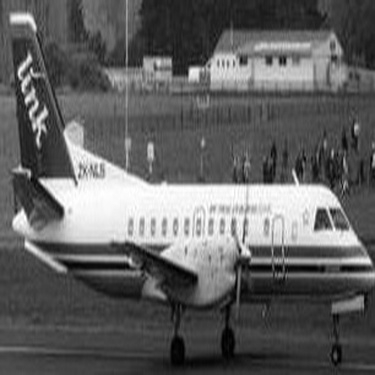airplane: (4, 4, 372, 371)
